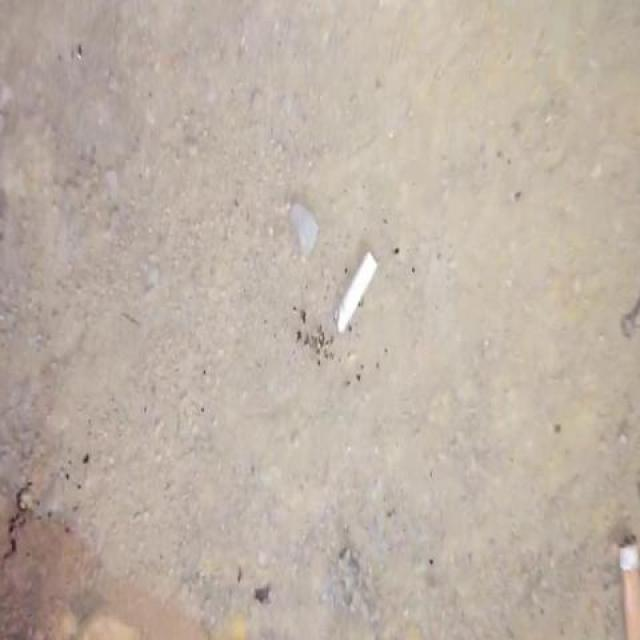non-organic waste: (332, 248, 380, 340)
